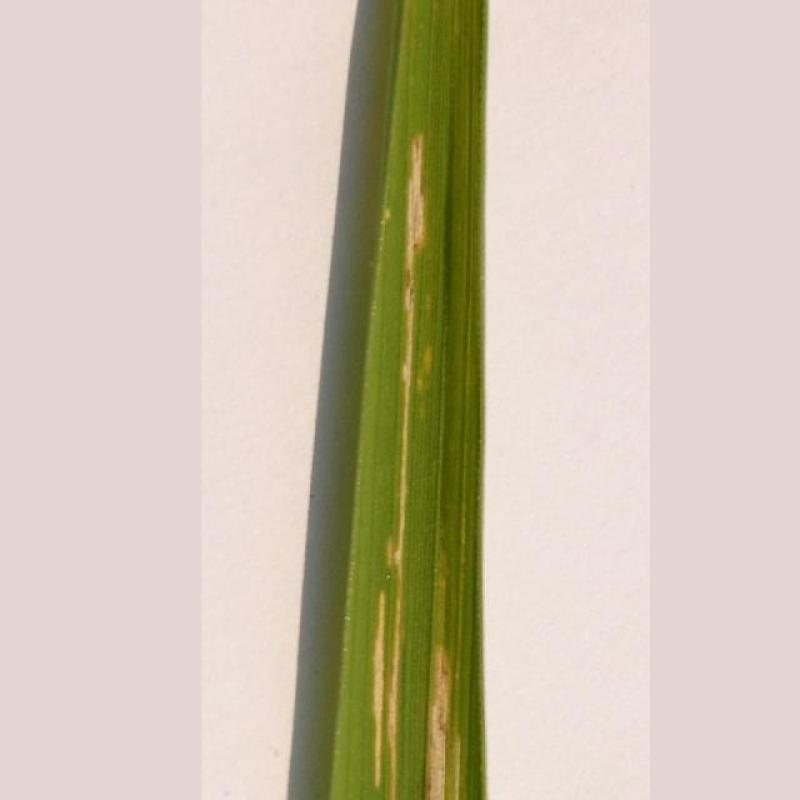Bacterial_Leaf_Blight: (344, 163, 444, 784), (408, 647, 484, 795)
